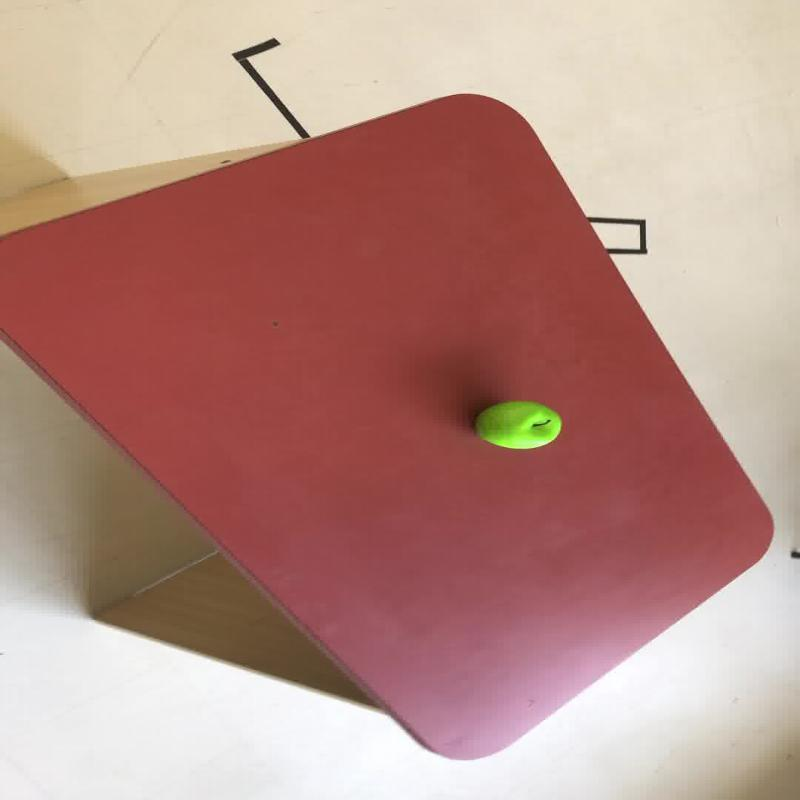apple: (472, 400, 562, 450)
